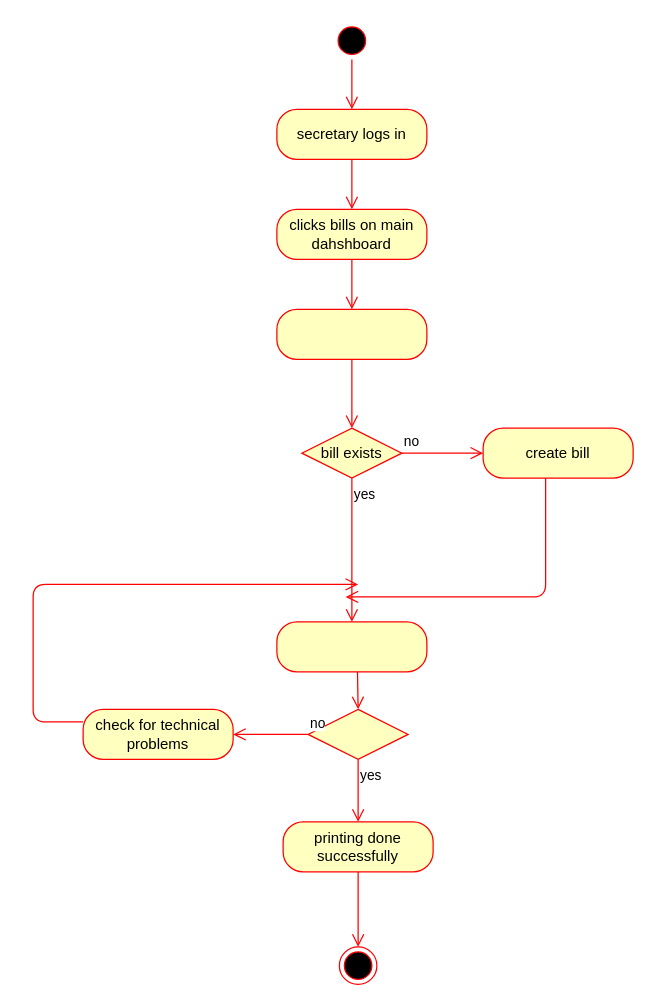
The diagram is 655 pixels wide and 1006 high, and some of its shapes have lost their labels. The shapes that lost their labels are listed below. From the top down, each one's box as (x1, y1, x2, y2) in pixels, then its label:
(276, 308, 427, 359): searches for bill
(276, 621, 427, 672): click print
(307, 708, 408, 759): printed bill
